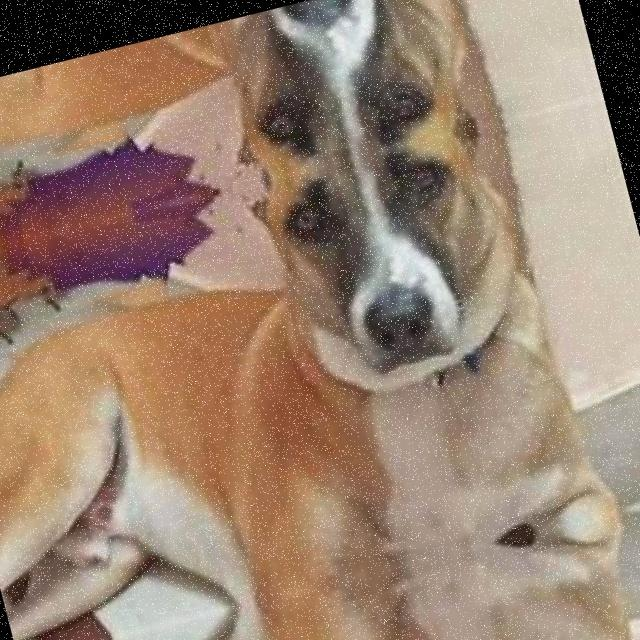dog: (0, 113, 633, 640), (0, 0, 530, 262), (32, 507, 640, 640)
